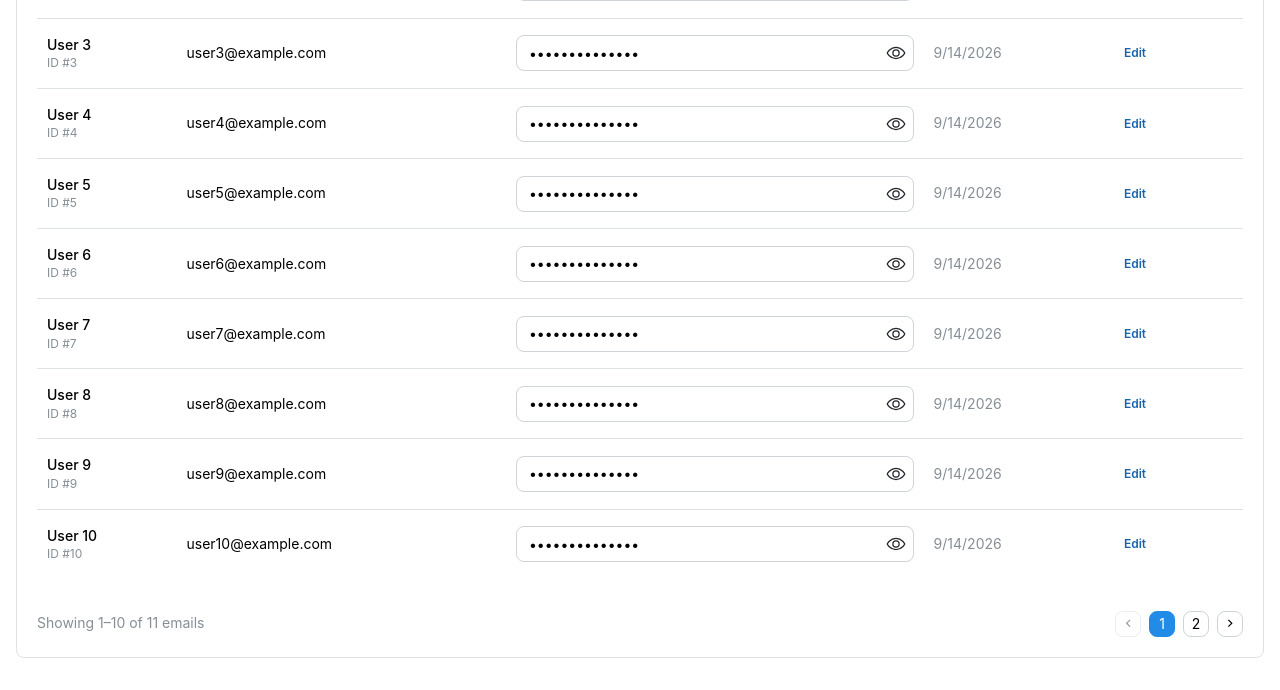
Test: email screen with mocked API › paginates the default list and resets pagination after a search is cleared
The width and height of the screenshot is (1280, 690).
(page scrolled)
Check: the text "Showing 1–10 of 11 emails" is shown, box [37, 614, 204, 634]
Check: the text "user11@example.com" is not shown
Click the button "2". click: (1196, 624)
box: [1183, 611, 1209, 637]
(page scrolled)
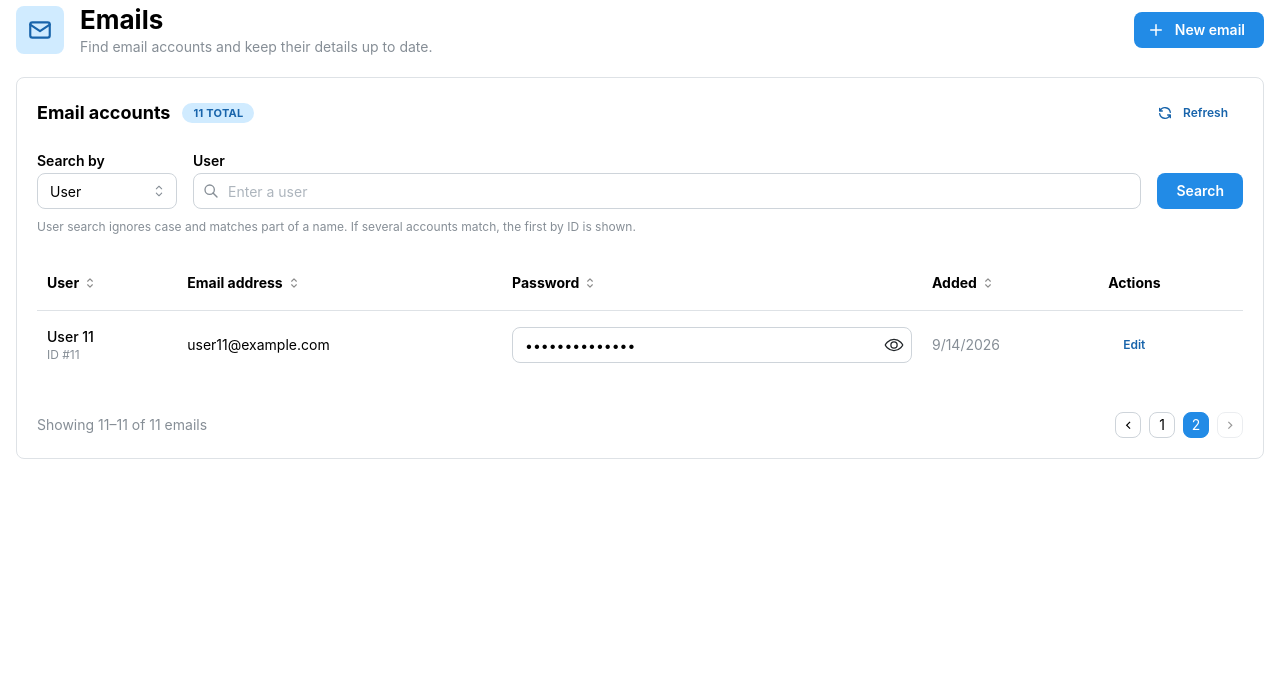
Check: the text "user11@example.com" is shown, box [187, 336, 330, 353]
Type "User 1" into the field labelled "User". click: (667, 191)
box: [193, 173, 1142, 209]
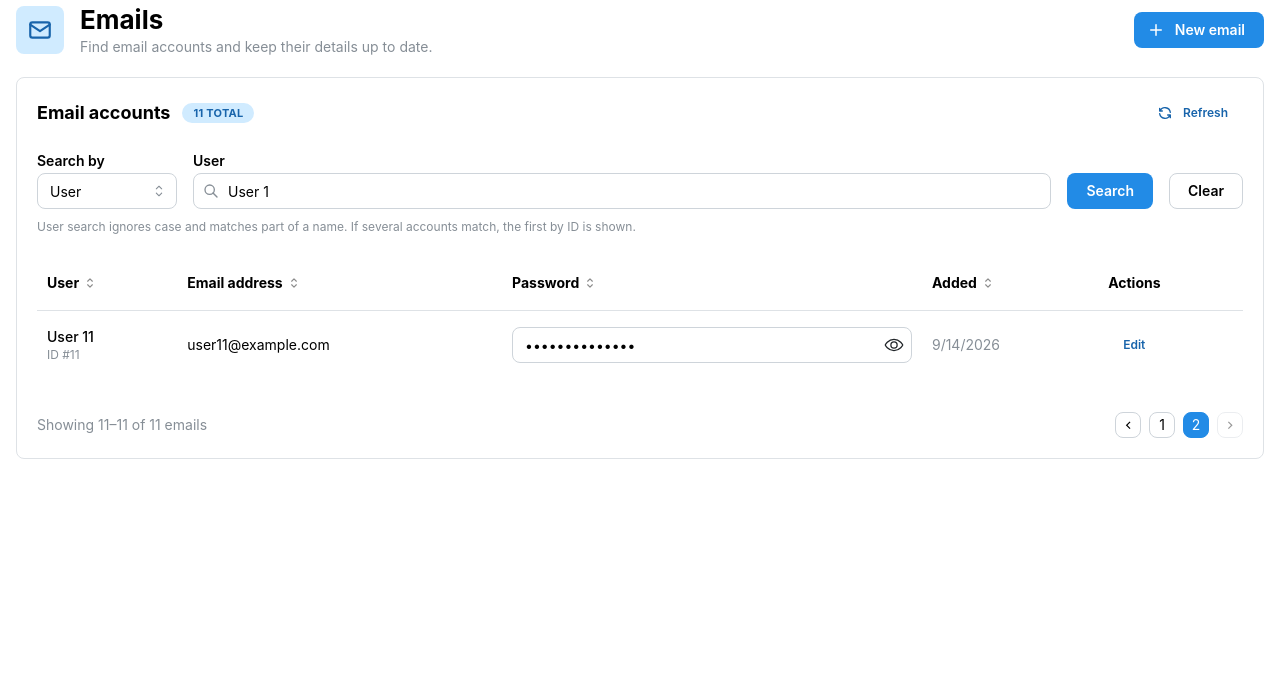
Click the button "Search". click: (1110, 191)
box: [1068, 173, 1153, 209]
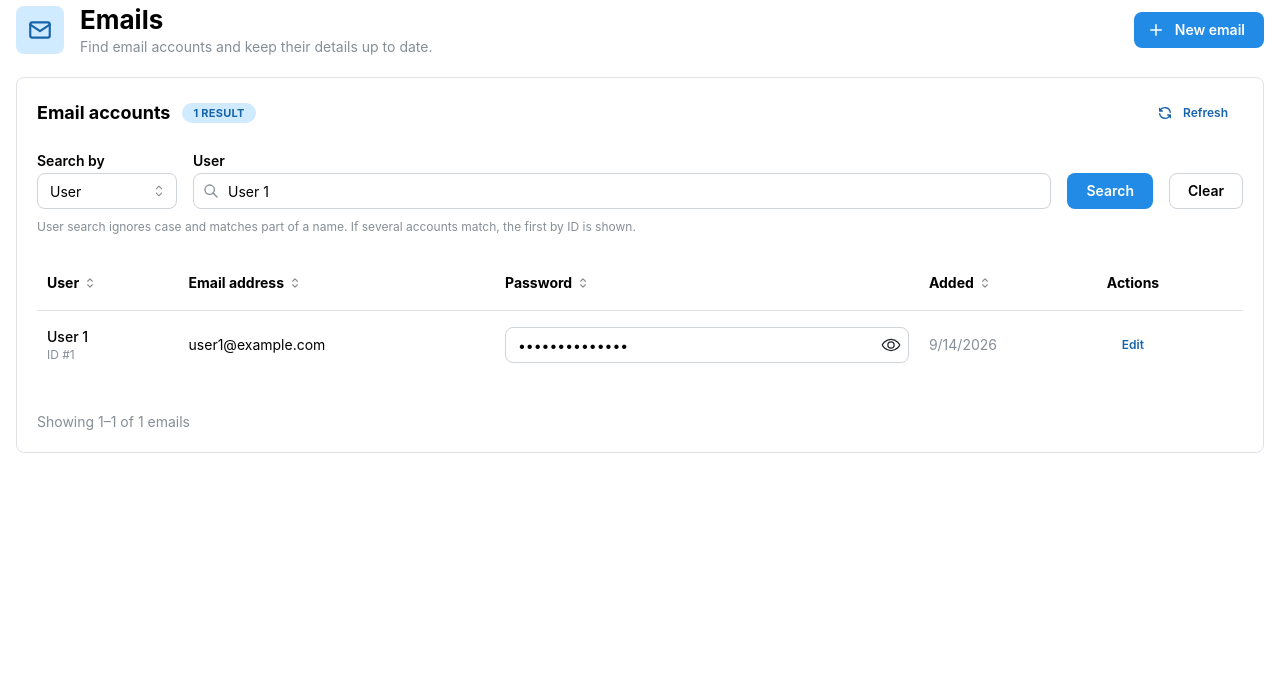
Check: the text "Showing 1–1 of 1 emails" is shown, box [37, 412, 190, 432]
Click the button "Clear". click: (1206, 191)
box: [1169, 173, 1243, 209]
(page scrolled)
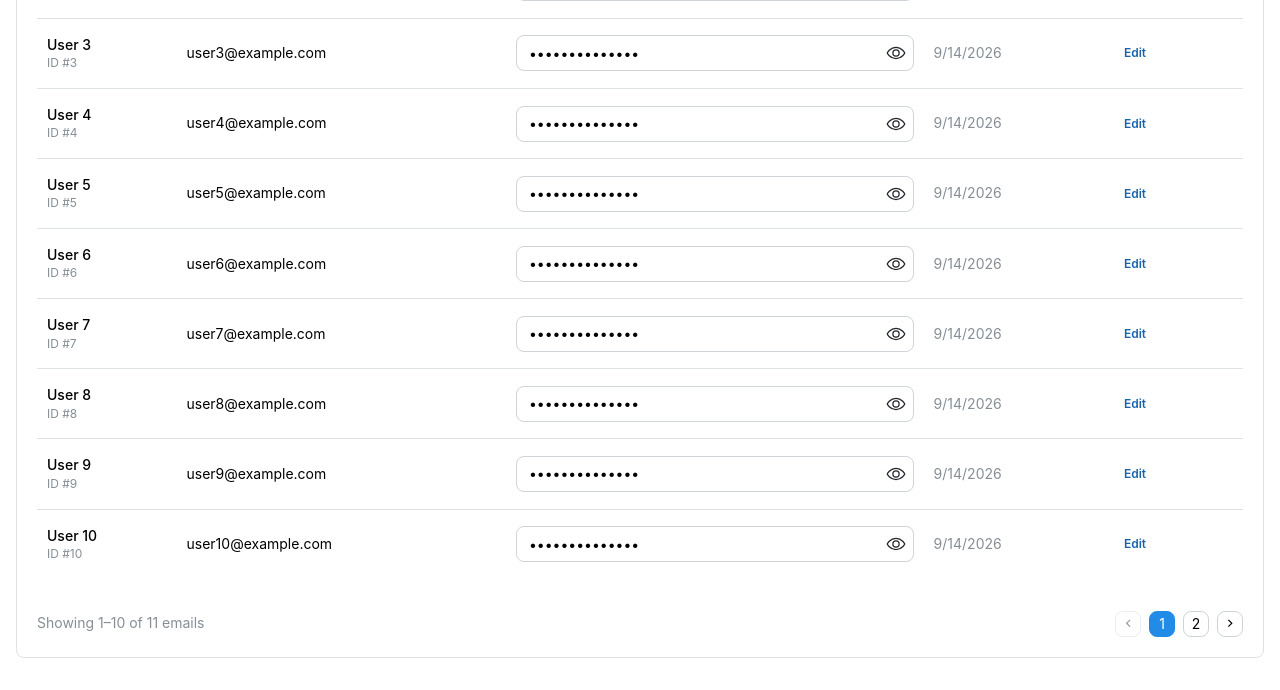
Check: the text "Showing 1–10 of 11 emails" is shown, box [37, 614, 204, 634]
